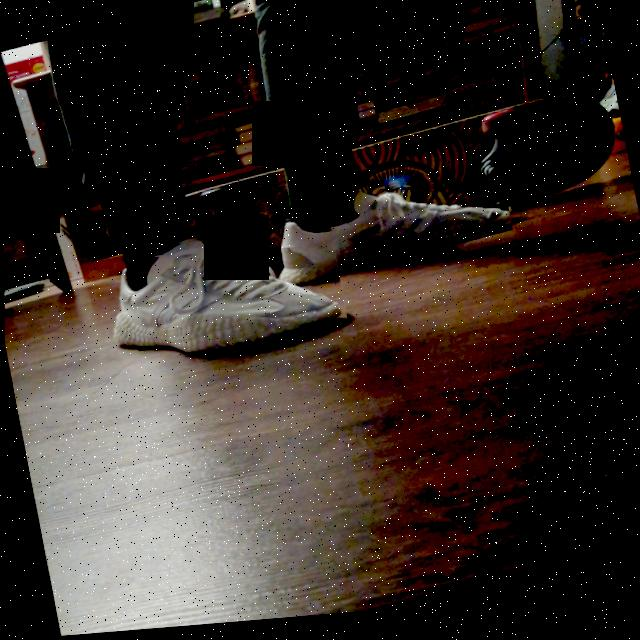shoe: (97, 207, 349, 386), (273, 160, 514, 292)
